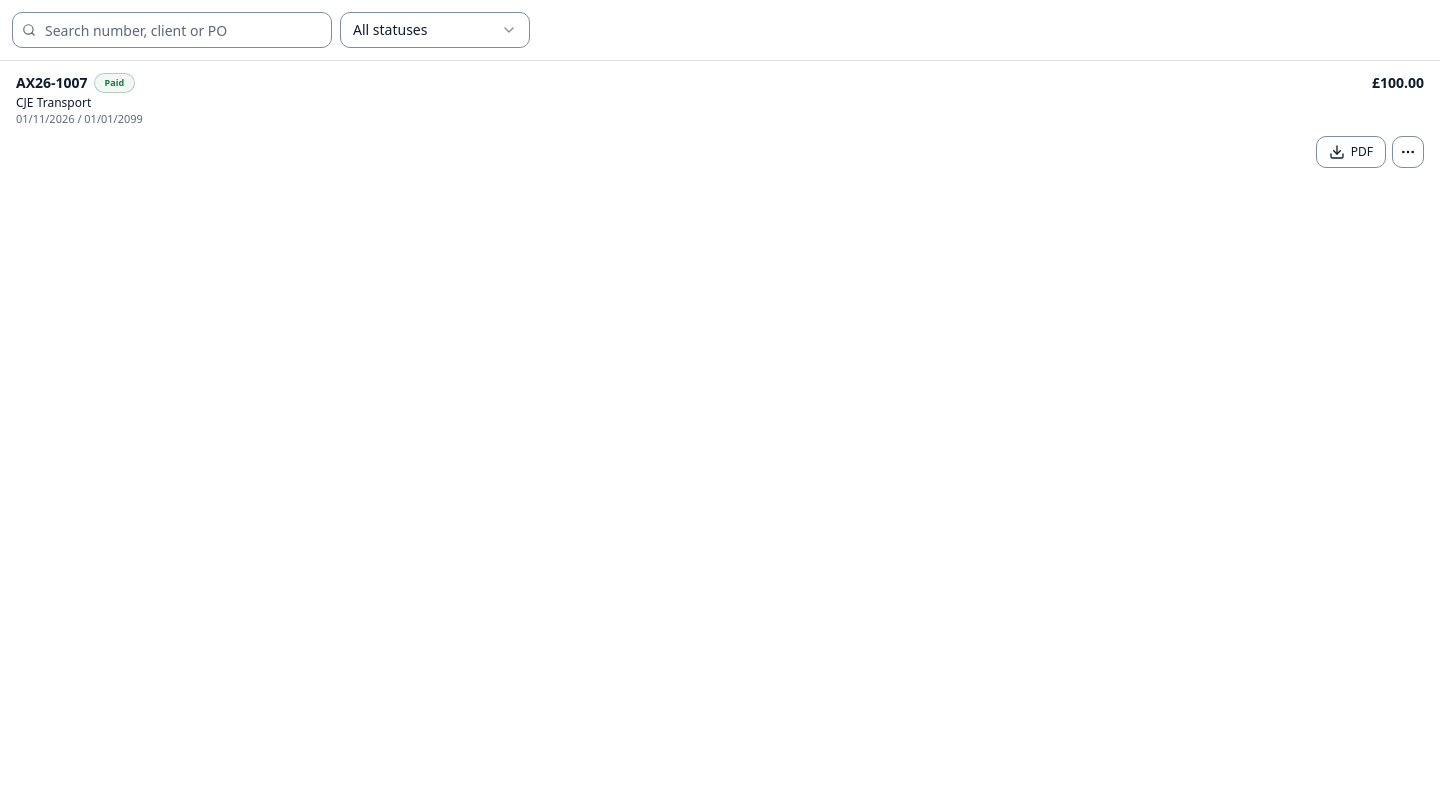
Test case: invoice actions › cancels an issued invoice with a credit note, and warns about a refund when it was paid
Later steps or results of the test are not shown.
Press Enter in the button named "More actions for AX26-1007", box [1392, 136, 1424, 168]
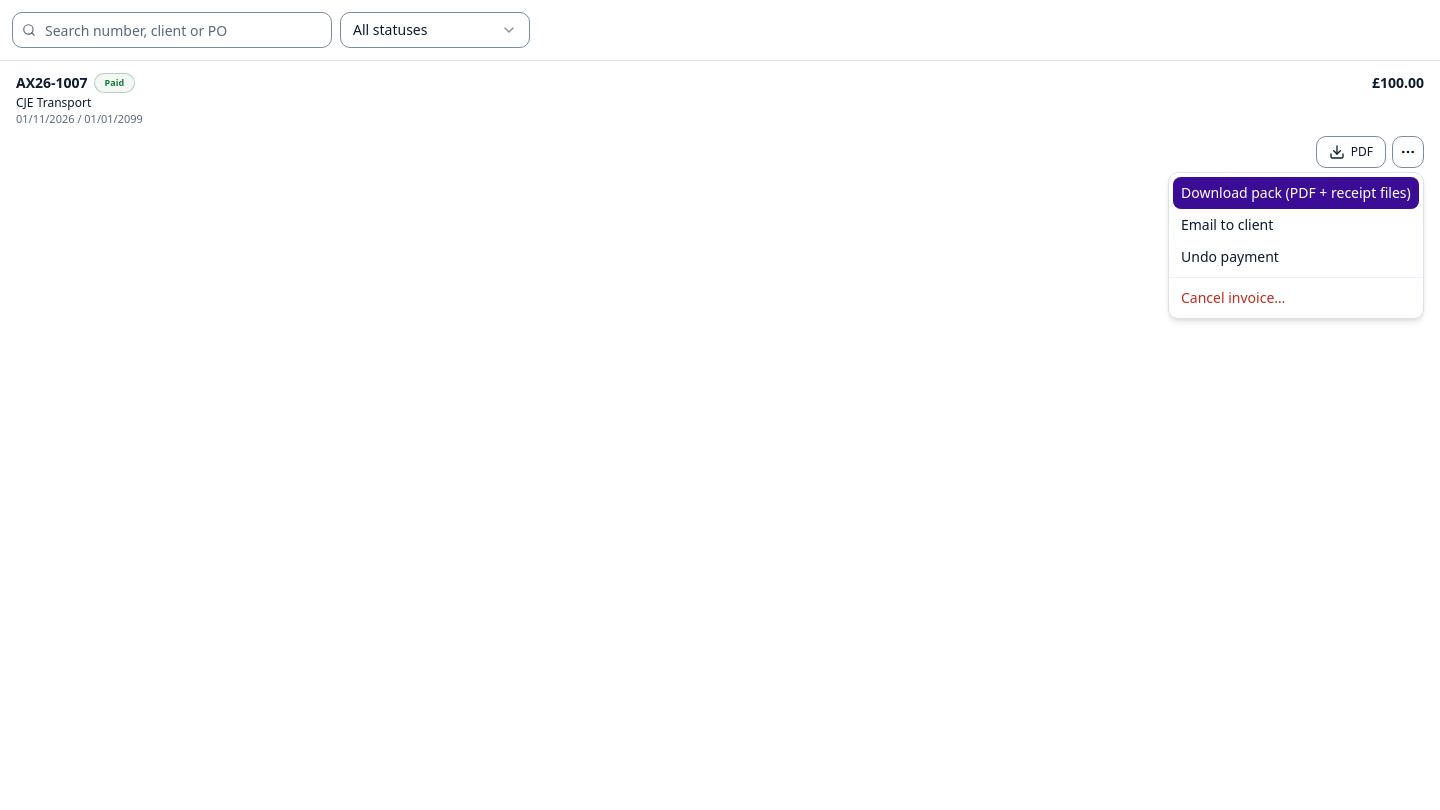
Click the menu item "Cancel invoice…" at (1233, 298), box [1181, 288, 1285, 307]
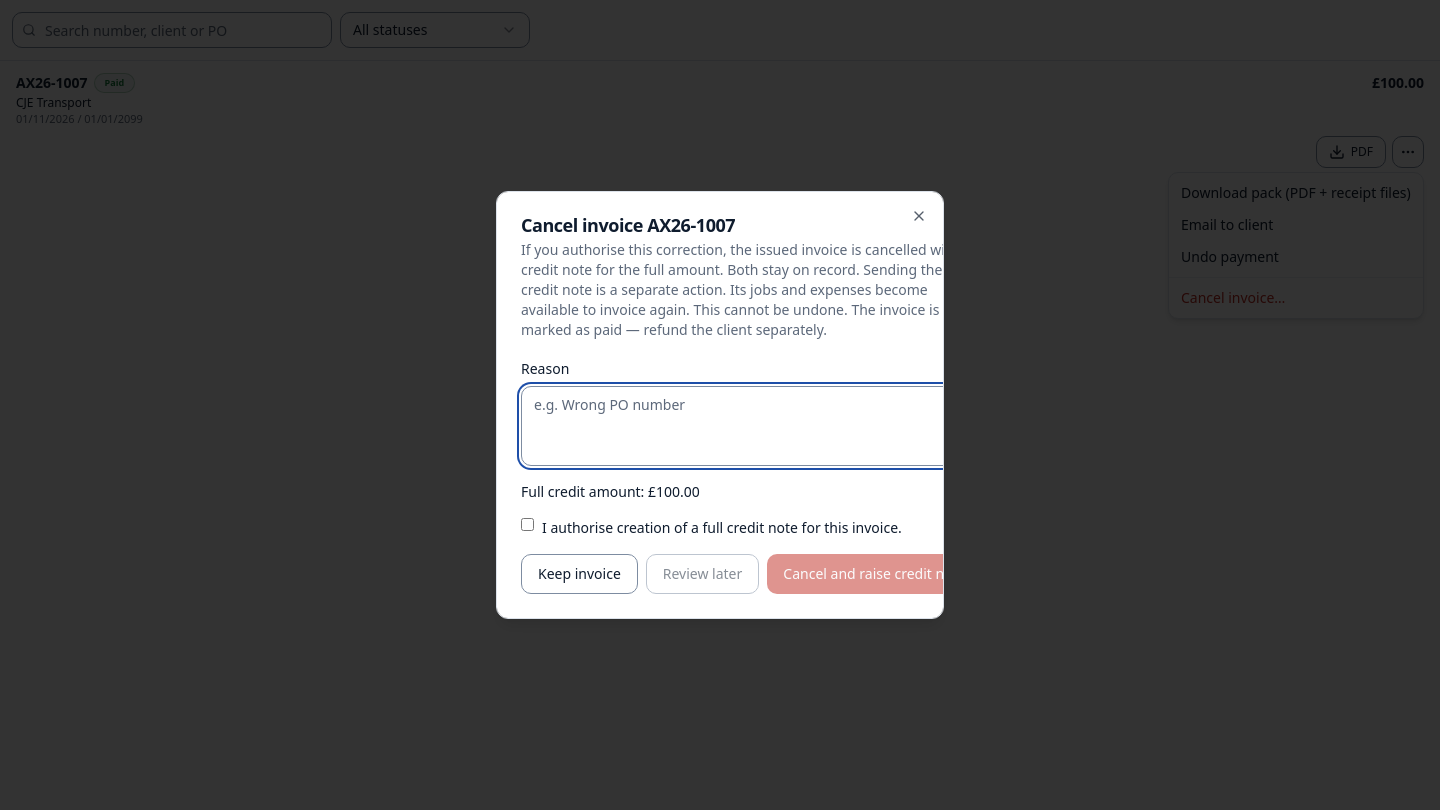
Expected: the text "cancelled with a credit note for the full amount" is shown, [521, 240, 944, 299]
Expected: the text "refund the client separately" is shown, [521, 300, 939, 339]
Type "Wrong PO" into the text box labelled "Reason" at (751, 426), box [521, 386, 982, 466]
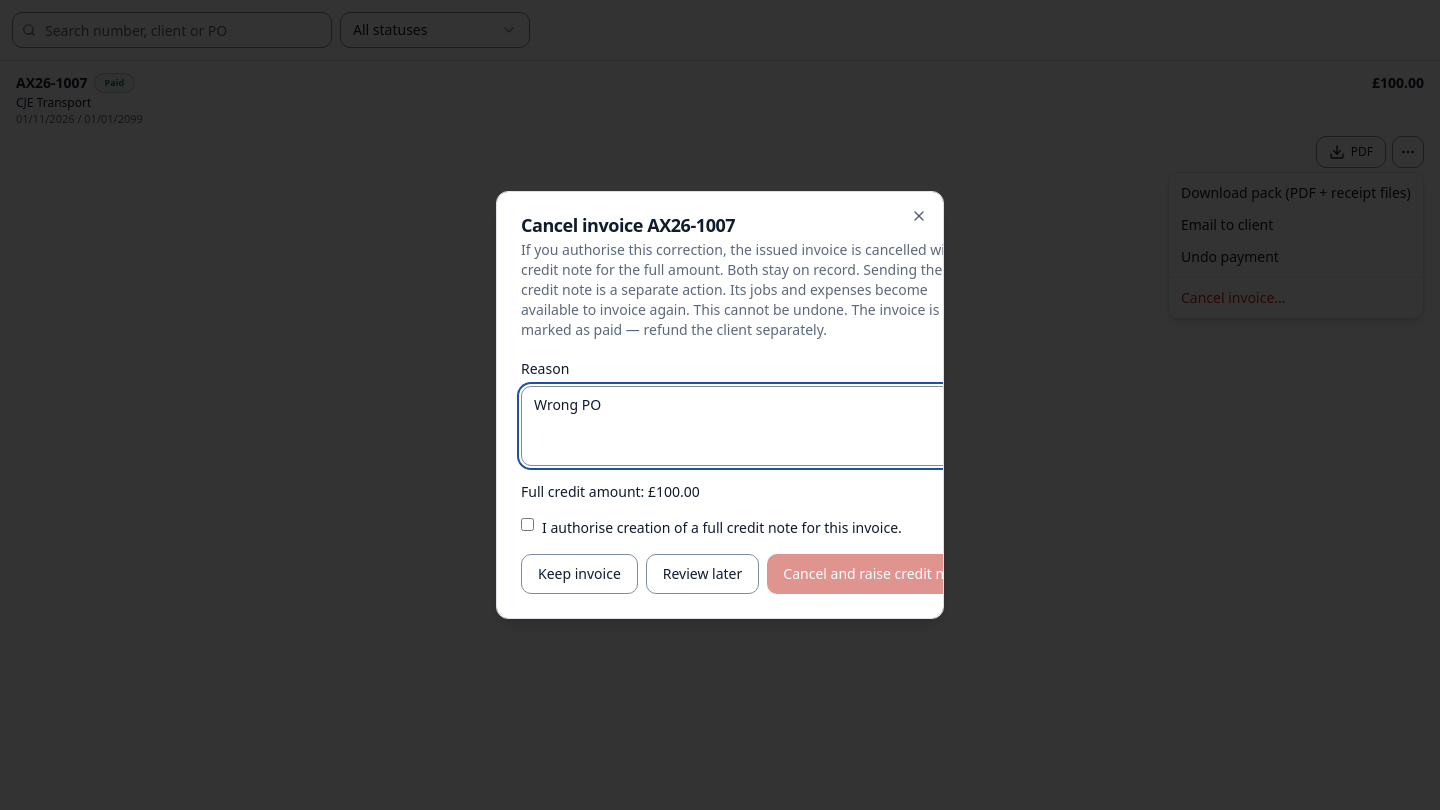
Expected: the button "Cancel and raise credit note" is disabled, [767, 554, 944, 594]
Click the checkbox labelled "I authorise creation of a full credit note for this invoice." at (528, 524), box [521, 518, 534, 531]
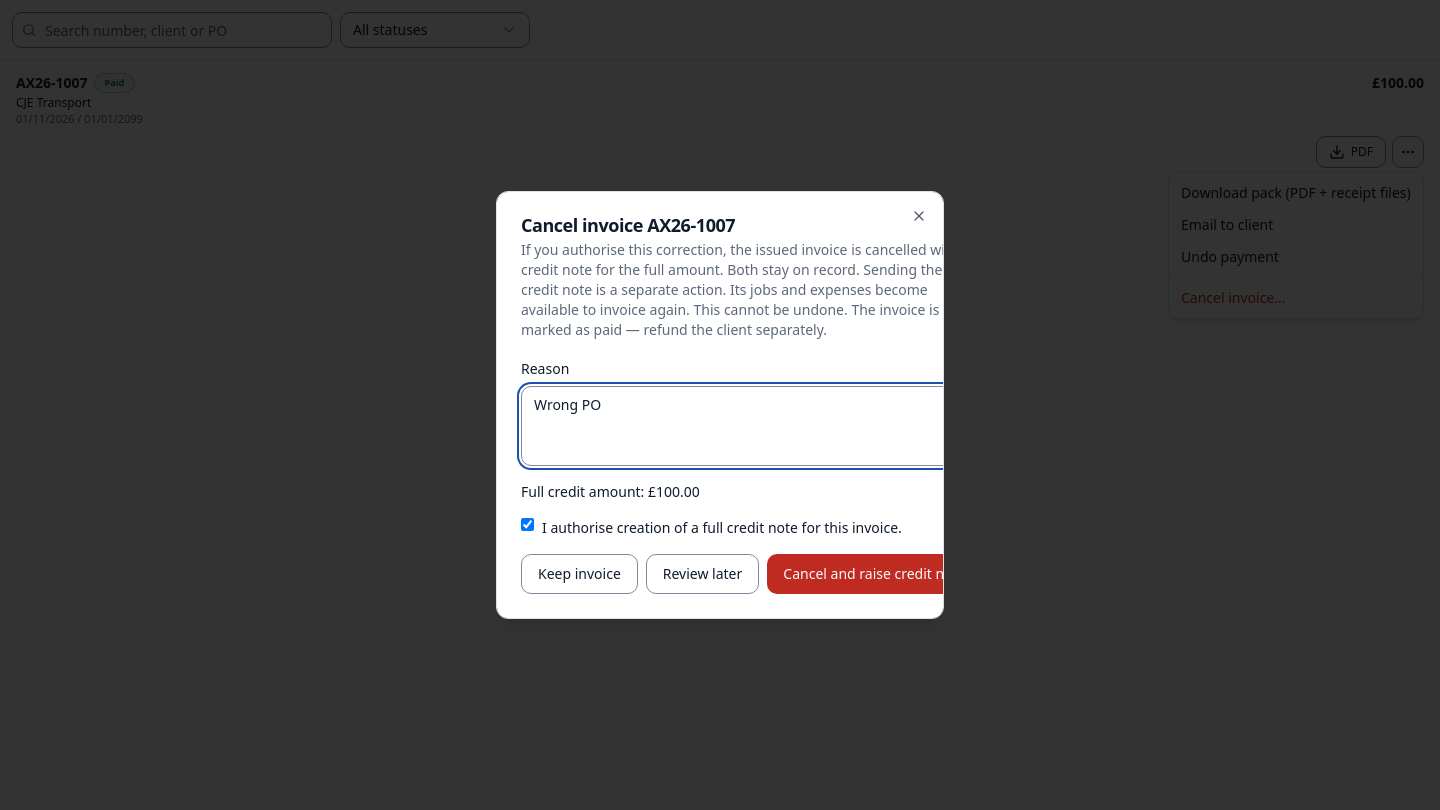
Expected: the button "Cancel and raise credit note" is enabled, [767, 554, 944, 594]
